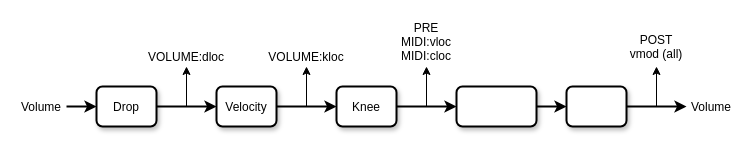
This 753x143 diagram has some shape labels left out. The centre of each missing label's shape, as x and y in pixels:
Center Volume: the point at 597,107
Envelope Generator: the point at 497,107
